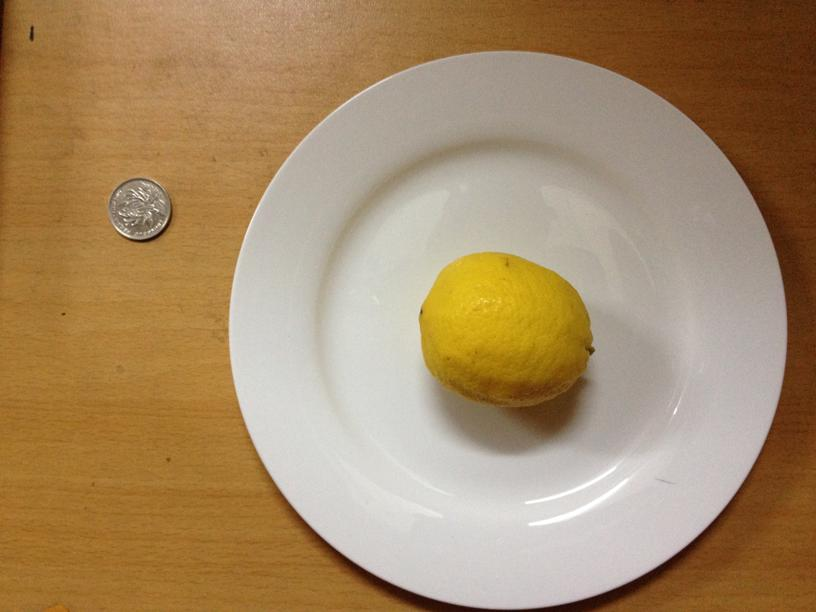coin: (110, 176, 173, 241)
lemon: (418, 255, 595, 408)
